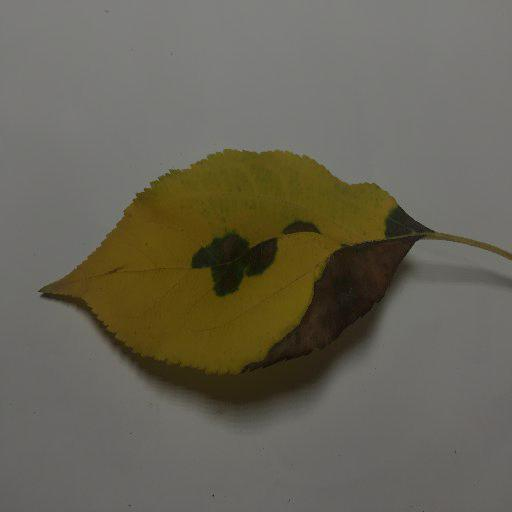Brown_Spot: (252, 237, 404, 366), (206, 249, 274, 293), (189, 247, 245, 258), (293, 226, 329, 234)
